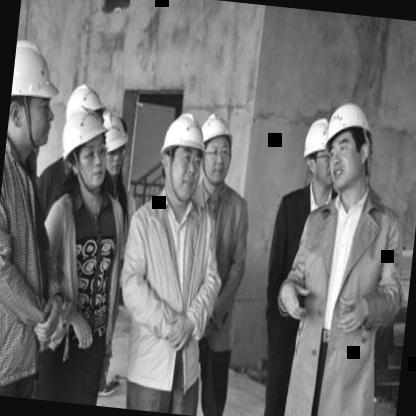helmet: (6, 38, 64, 156), (319, 100, 377, 194), (156, 108, 209, 206), (58, 107, 112, 192), (195, 106, 238, 186), (298, 117, 344, 189), (95, 106, 132, 180), (62, 80, 108, 132)
